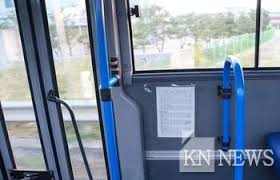exit: (1, 1, 122, 180)
